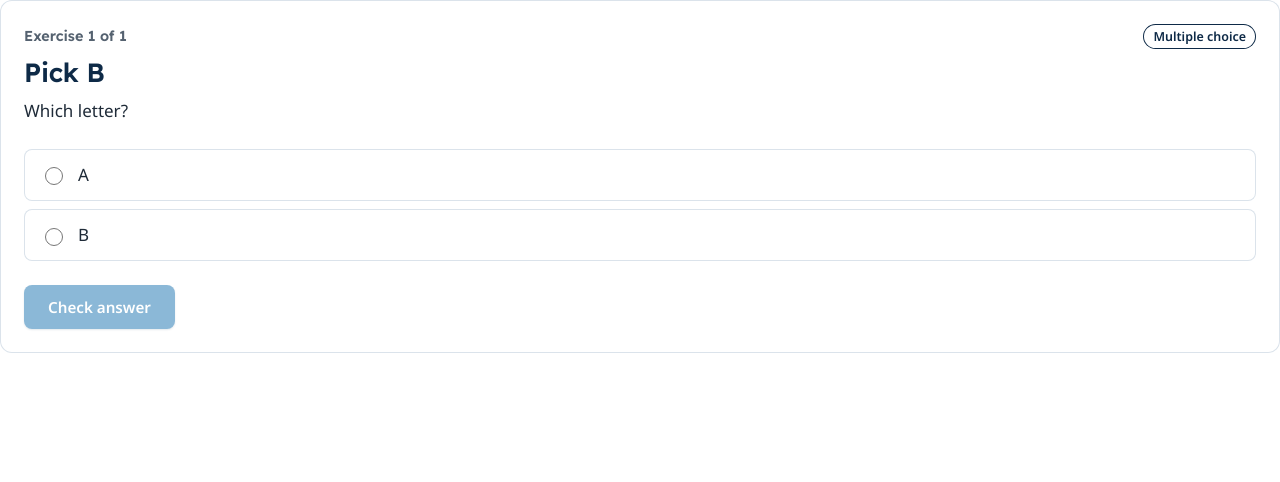
Test case: ExerciseShell › gives feedback, records the attempt and allows retry
Click the radio button labelled "B".
click(54, 236)  # box [45,228,63,246]
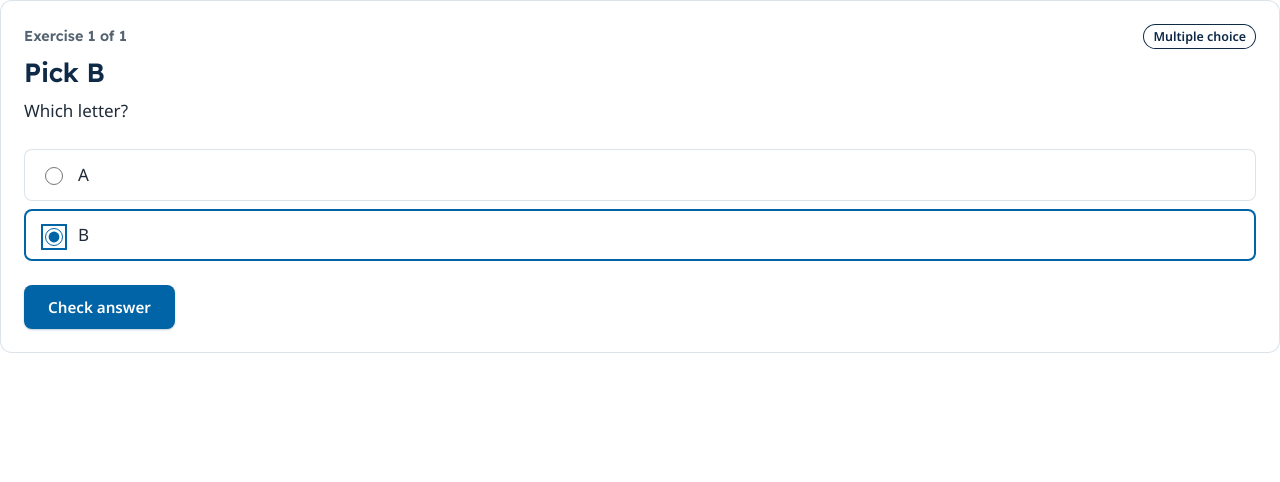
Click the button "Check answer".
click(99, 307)  # box [24,285,175,329]
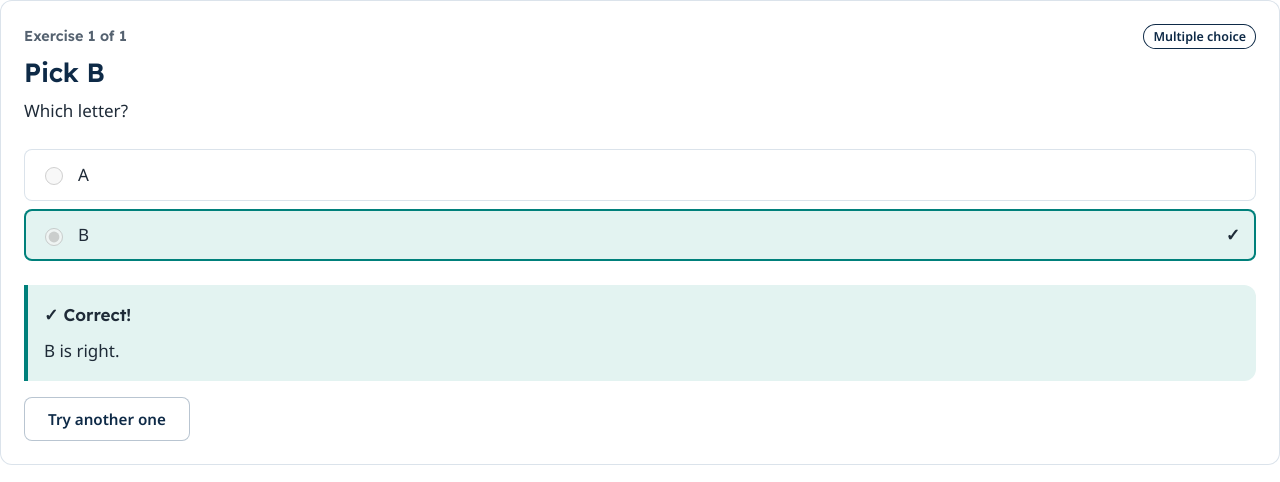
Result: the text "Correct!" is shown at [64,304,131,325]
Result: the text "B is right." is shown at [44,339,120,362]
Click the button "Try another one".
click(107, 419)  # box [24,397,190,441]
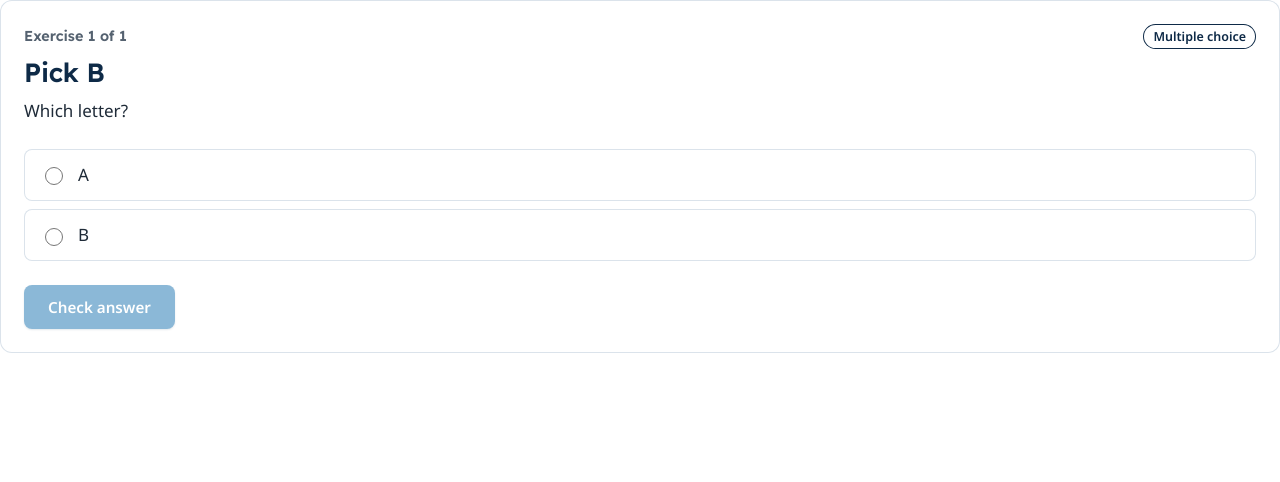
Result: the button "Check answer" is disabled at [24,285,175,329]
